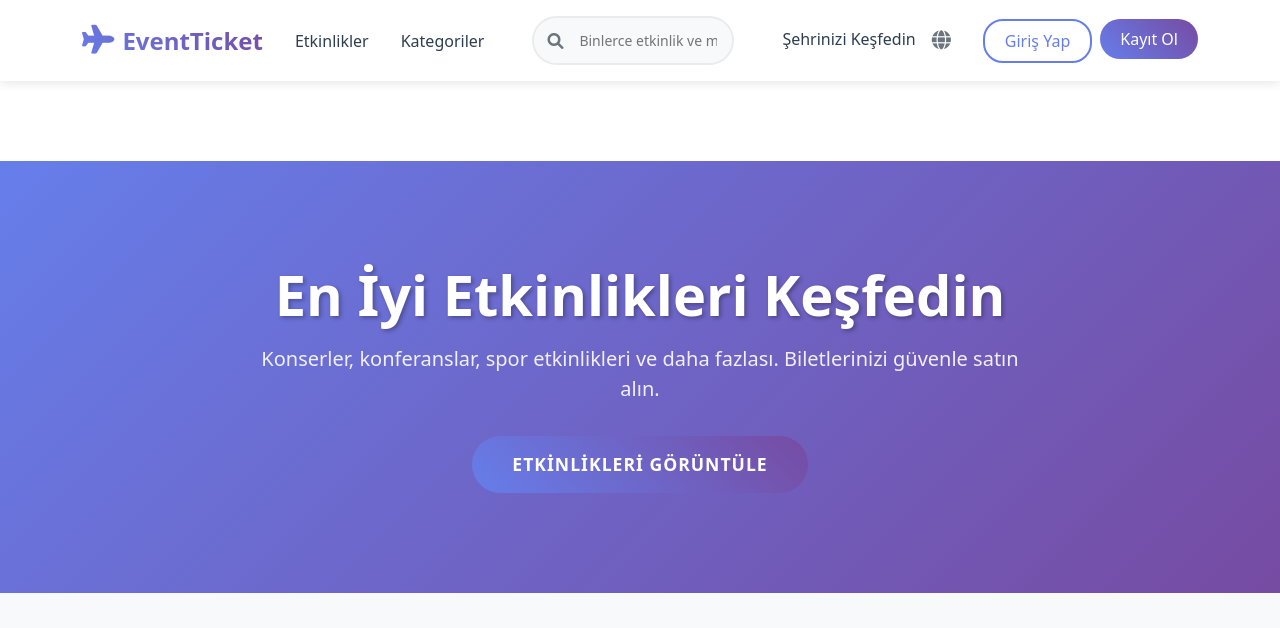
Event Ticket App User Flow › should navigate to register page
Click the button "Kayıt Ol": [1149, 39] box [1100,19,1198,59]
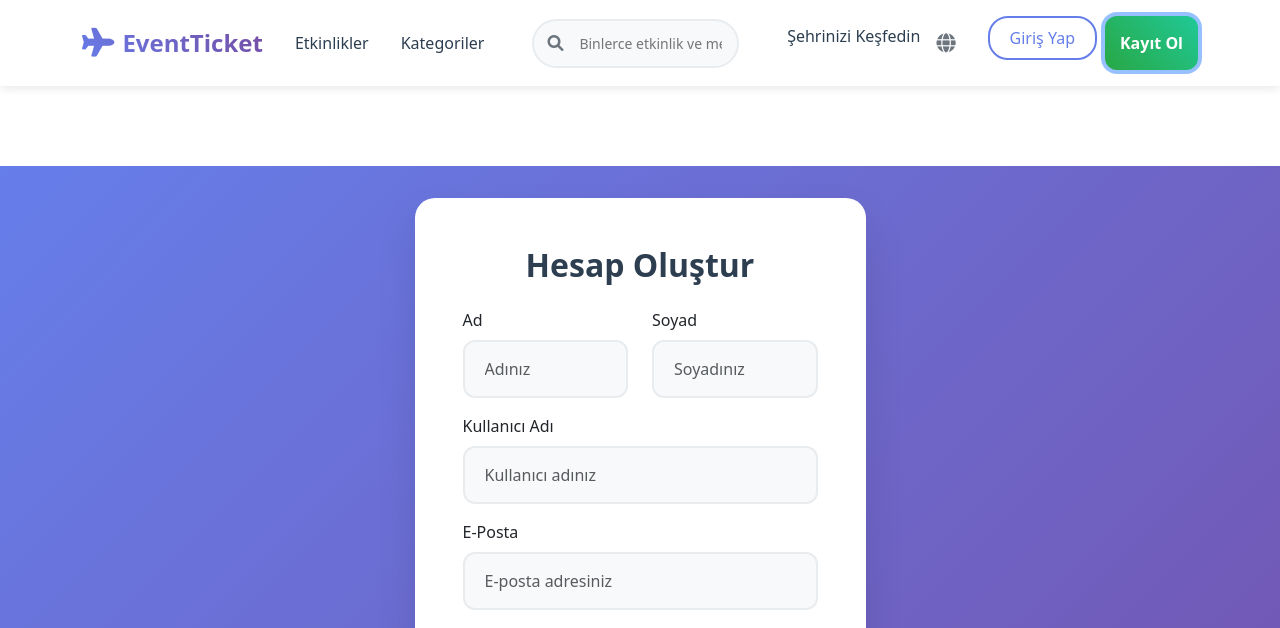
Now the heading "Hesap Oluştur" is shown, box [526,243,754,286]
